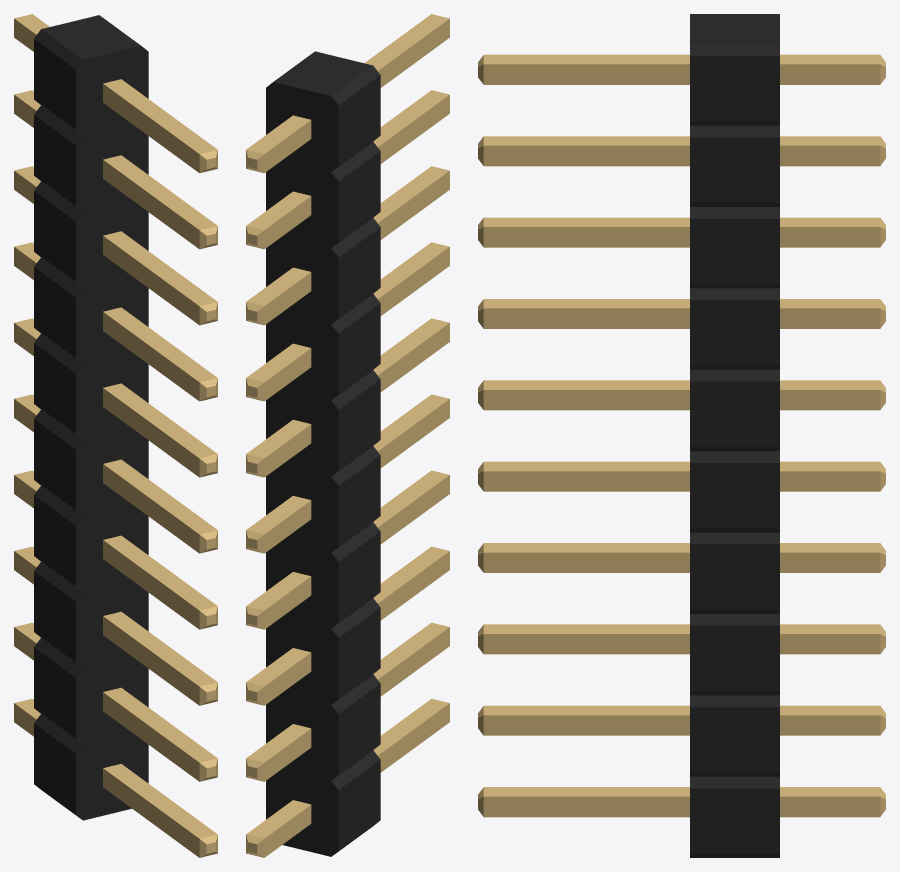
File: pin-header.glb
3 renders of one model, left to right at view 1: azimuth 30°, elevation 25°; view 2: azimuth 150°, elevation 25°; view 3: azimuth 270°, elevation 25°, orthographic. The views are drawn at different scales.
Visible parts, largest first — view 1: part0, part1; view 2: part0, part1; view 3: part1, part0.
Boxes of the visible parts, bbox=[...] form: part0: bbox=[34, 15, 148, 820]; part1: bbox=[14, 14, 217, 857]; part0: bbox=[266, 51, 380, 856]; part1: bbox=[246, 14, 449, 857]; part1: bbox=[478, 54, 885, 817]; part0: bbox=[690, 14, 779, 857].
Bounding box in the file's own units: 0.00254 × 0.0254 × 0.0115.
